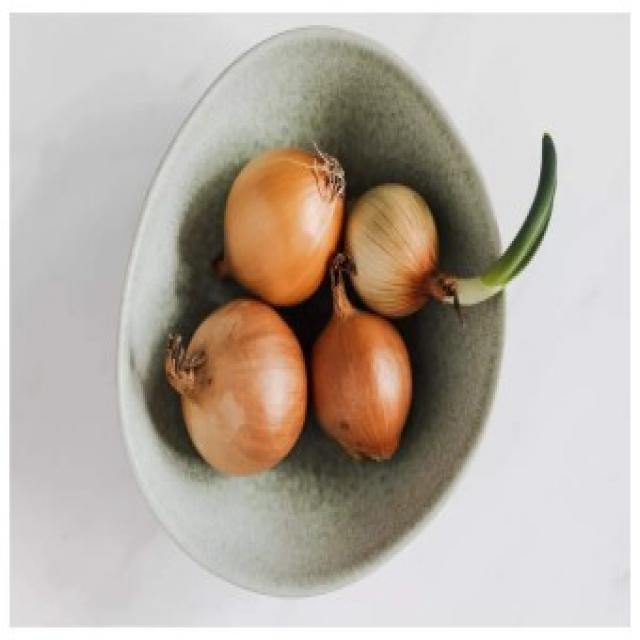onion: (163, 299, 309, 478), (223, 148, 346, 308), (310, 272, 412, 463)
